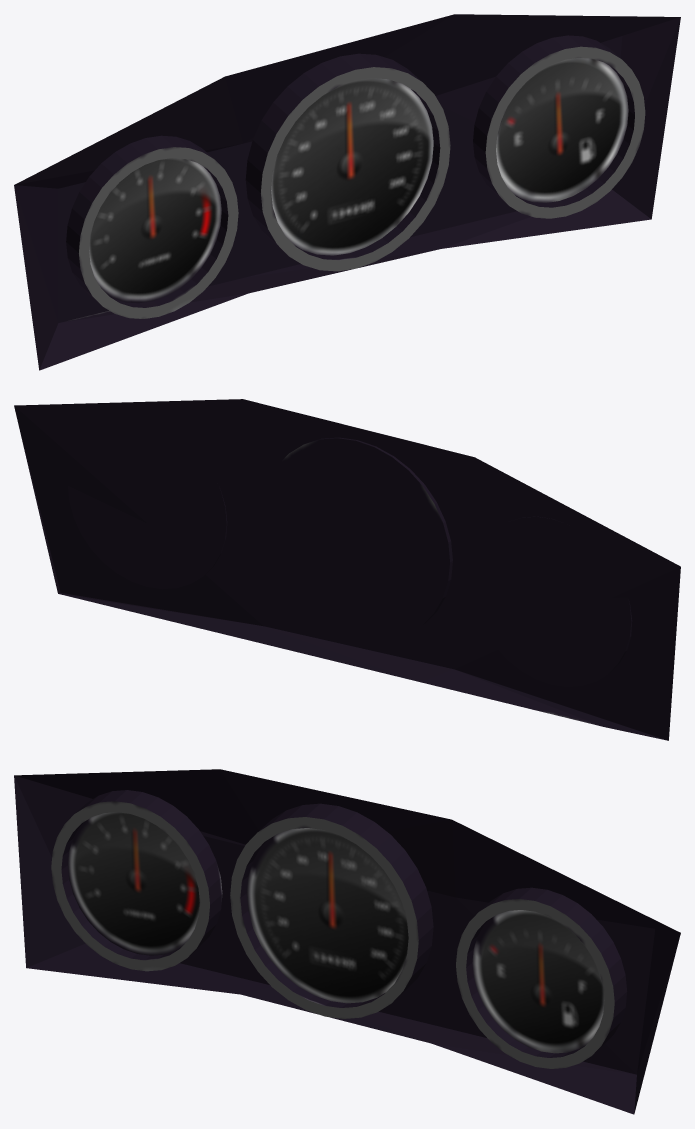
The model's file is Speedometer_Blur.fbx.
3 views of the same model, one above another, from view 1: azimuth 30°, elevation 25°; view 2: azimuth 150°, elevation 25°; view 3: azimuth 330°, elevation 25° (orthographic).
Visible parts, largest first — view 1: Cylinder.008; view 2: Cylinder.008; view 3: Cylinder.008.
Boxes of the visible parts, <box> form: Cylinder.008: <box>14,14,680,370</box>; Cylinder.008: <box>14,399,680,740</box>; Cylinder.008: <box>14,769,680,1114</box>.
Bounding box in the file's own units: 254 × 89.79 × 22.45.
1 material, 1 textured.
